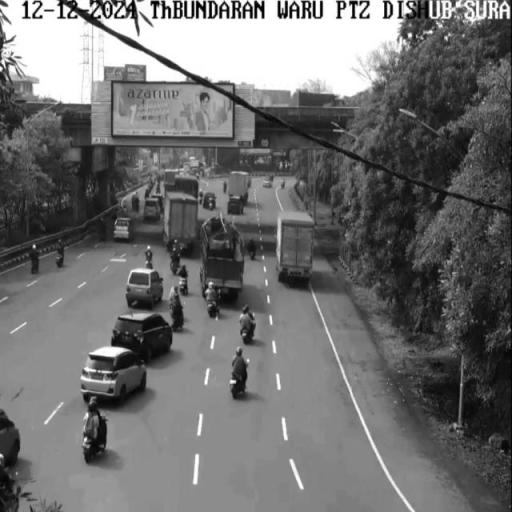car: (81, 348, 146, 400), (112, 316, 172, 350), (125, 269, 162, 307), (0, 413, 18, 463)
motorcycle: (82, 415, 108, 463), (228, 358, 250, 398), (170, 296, 186, 331), (240, 316, 257, 342), (205, 296, 221, 316), (180, 273, 189, 293)
truck: (202, 220, 242, 302), (276, 212, 314, 286), (165, 192, 196, 250)
